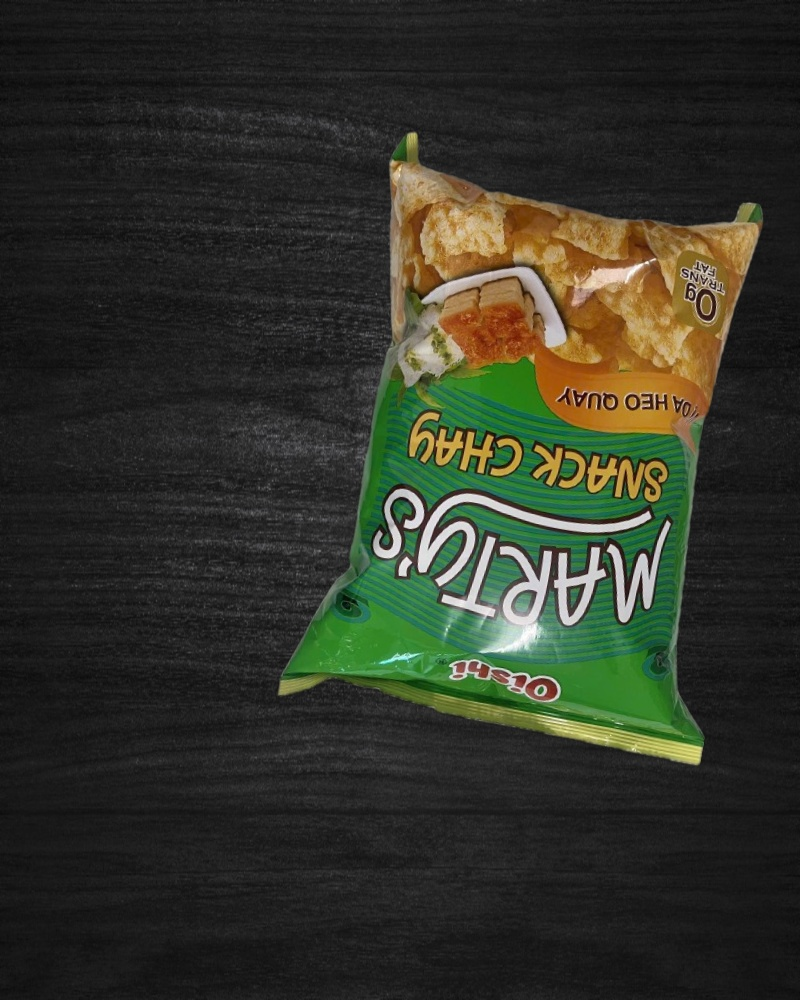Snack chay: (297, 131, 799, 771)
